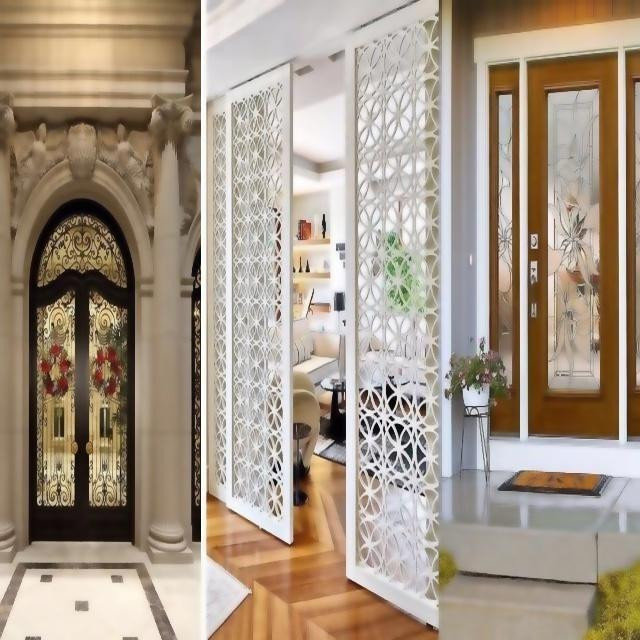door: (528, 38, 620, 436)
